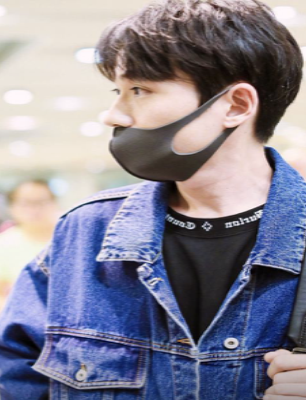mask_weared_incorrect: (102, 72, 216, 182)
